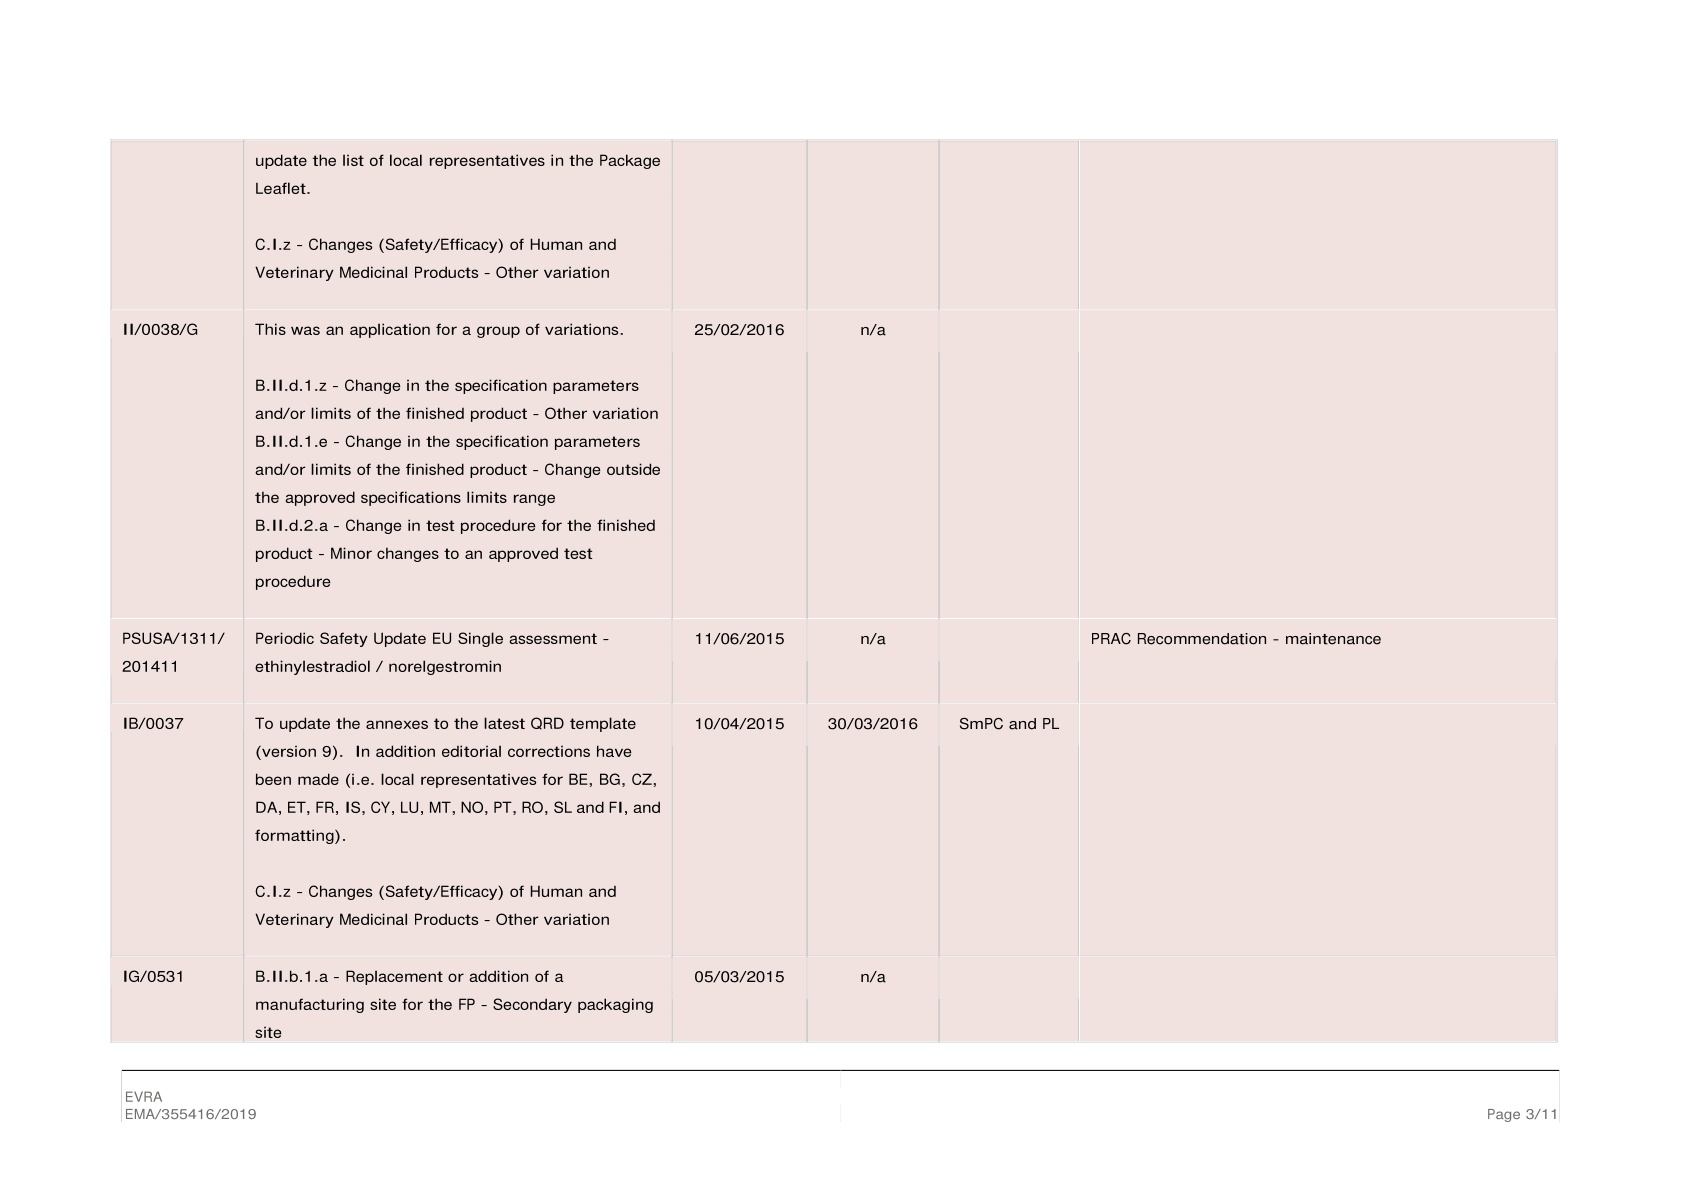full_lined: (108, 138, 1558, 1044)
